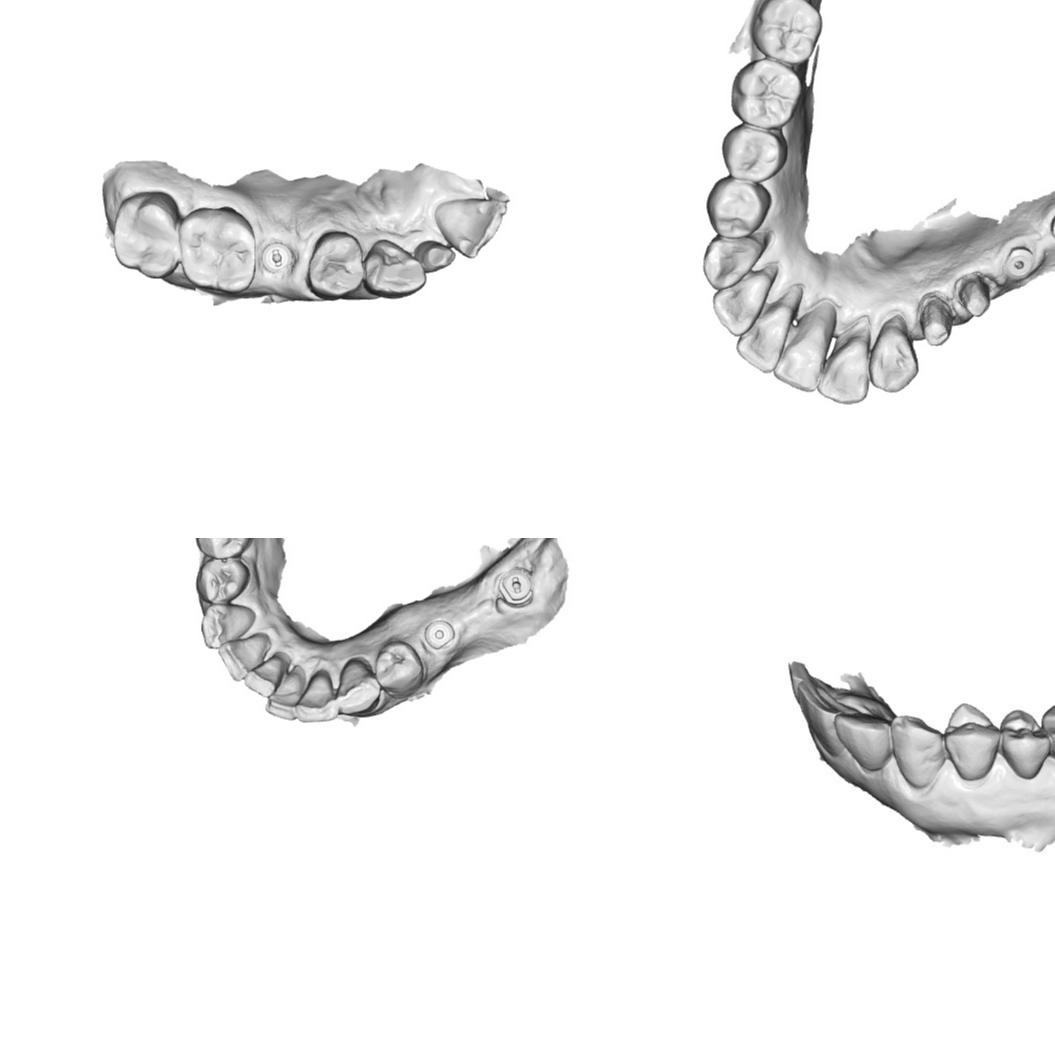canine: (889, 712, 944, 789), (364, 235, 429, 300), (867, 320, 920, 393), (700, 236, 758, 289), (335, 656, 381, 716), (201, 602, 256, 650)
crown: (919, 296, 955, 350), (957, 271, 995, 320), (415, 235, 455, 275)
implant: (999, 242, 1033, 283), (423, 618, 456, 650)
implant_minus: (498, 568, 536, 607), (260, 239, 294, 276)
incisor: (432, 193, 509, 260), (795, 680, 853, 751), (774, 325, 829, 394), (736, 308, 793, 374), (817, 337, 871, 404), (837, 712, 893, 772), (712, 276, 766, 338), (217, 633, 266, 684), (294, 670, 338, 724), (264, 670, 304, 720), (243, 654, 284, 700)
molar: (176, 205, 258, 294), (110, 189, 182, 280), (729, 57, 800, 130), (752, 0, 821, 63)
premolar: (944, 698, 999, 781), (305, 227, 366, 301), (704, 175, 769, 239), (718, 123, 786, 184), (999, 703, 1052, 781), (374, 638, 426, 700), (194, 557, 251, 605), (193, 538, 252, 559)
